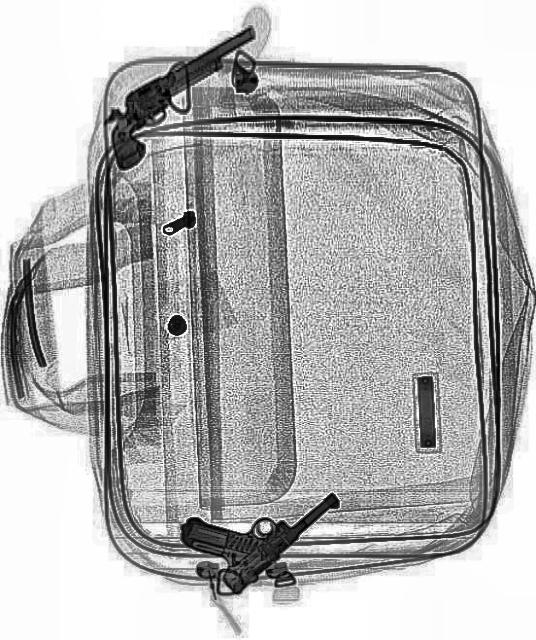Gun: (91, 20, 279, 172), (174, 431, 340, 603)
